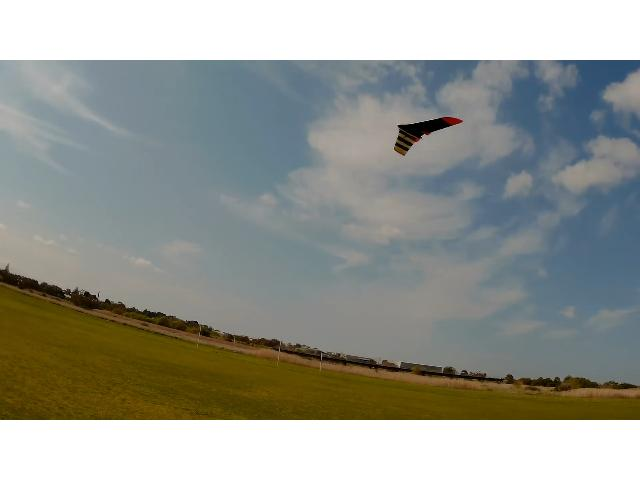Anti-Drone: (393, 117, 463, 155)
